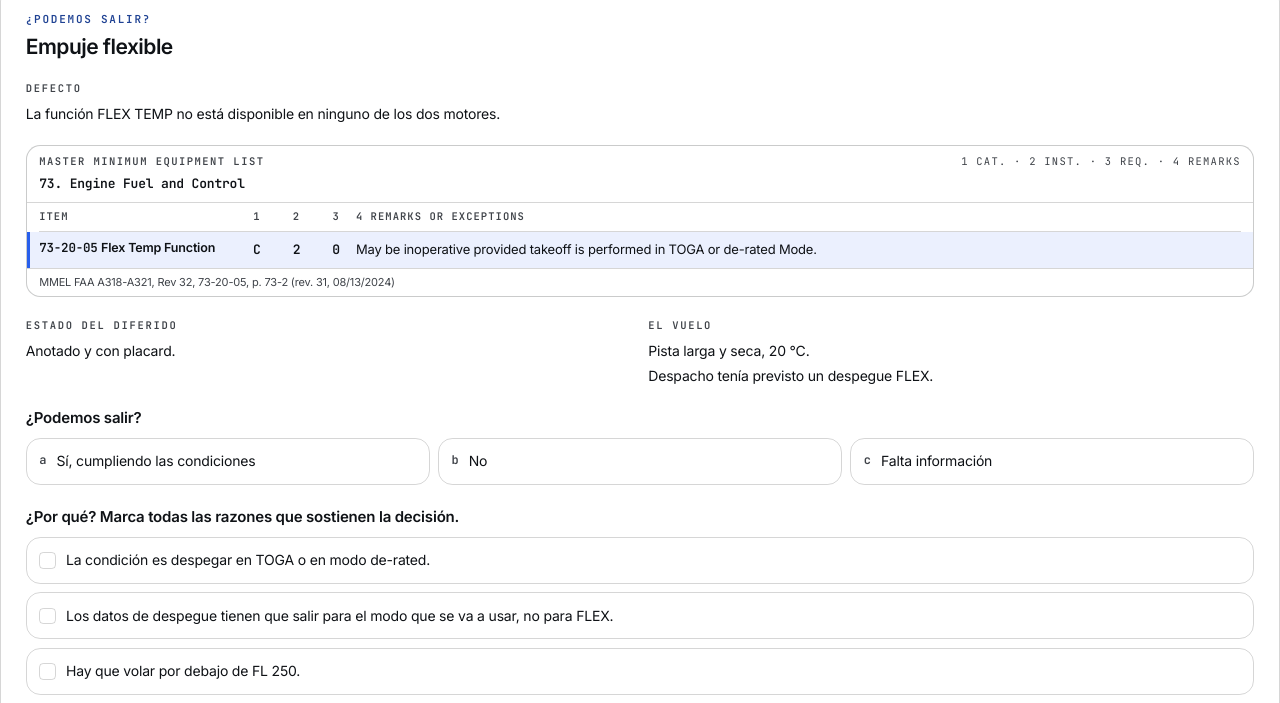
PodemosSalir › decisión y razones, luego la explicación
Click the button "a Sí, cumpliendo las condiciones": [228, 462] box x1=26 y1=438 x2=430 y2=485
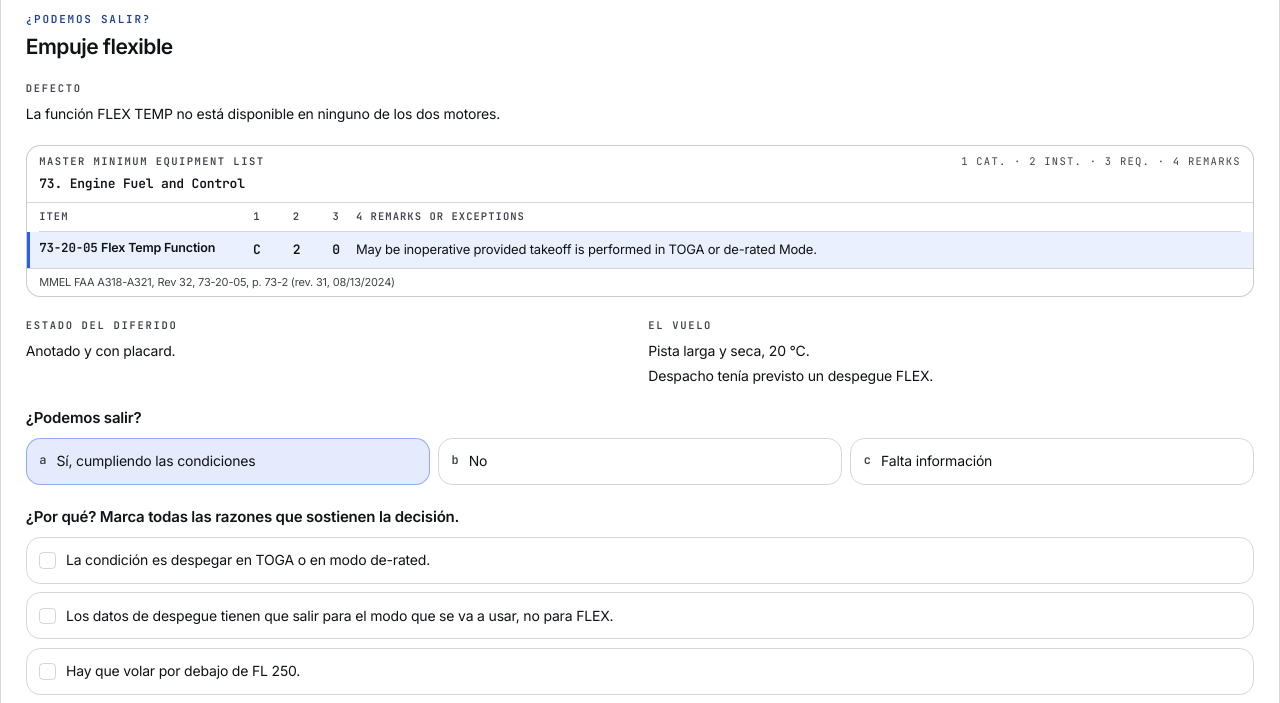
Click the button "La condición es despegar en TOGA o en modo de-rated.": [248, 560] box x1=26 y1=537 x2=1254 y2=584
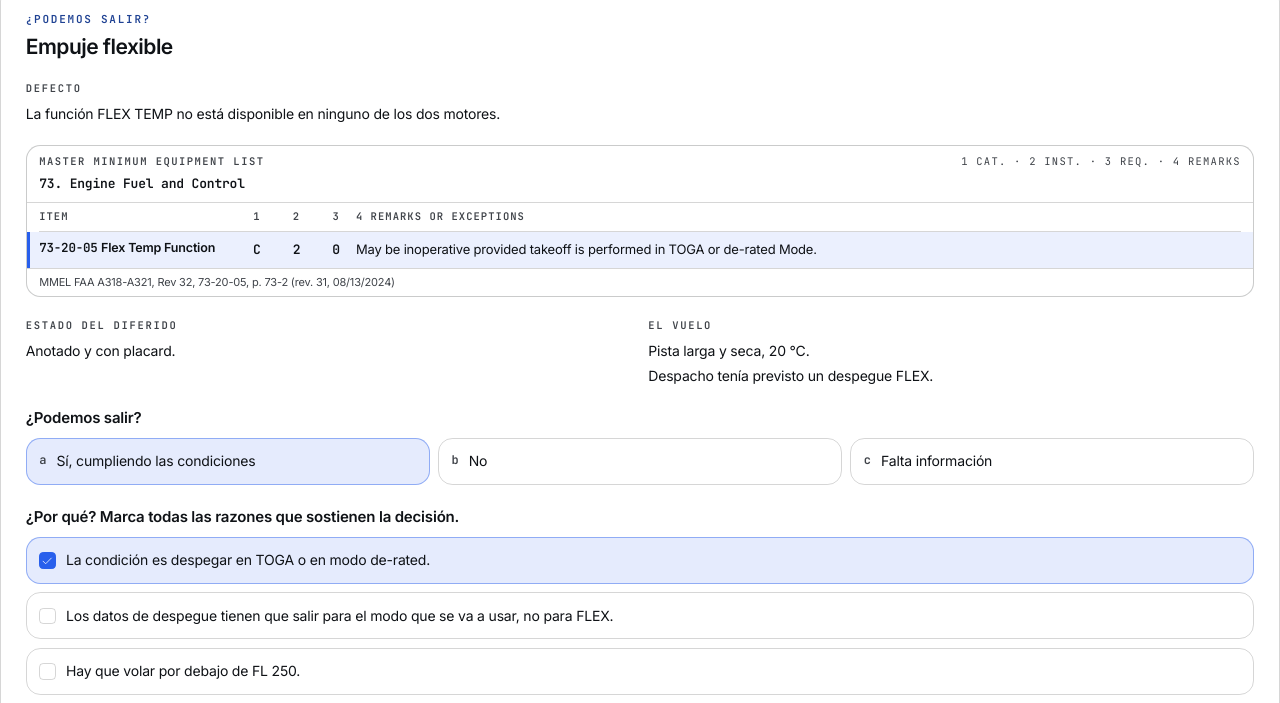
Click the 5th button: [340, 615] box x1=26 y1=592 x2=1254 y2=639
(page scrolled)
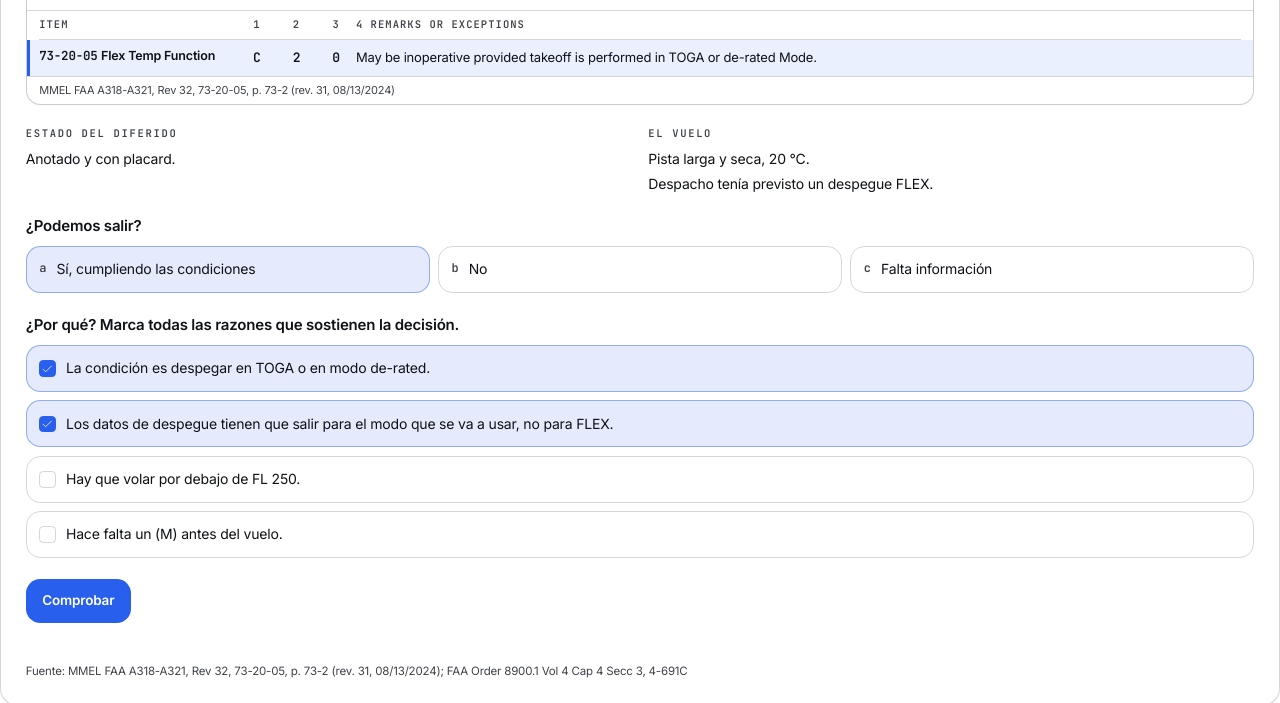
Click the button "Comprobar": [78, 601] box x1=26 y1=579 x2=131 y2=623
(page scrolled)
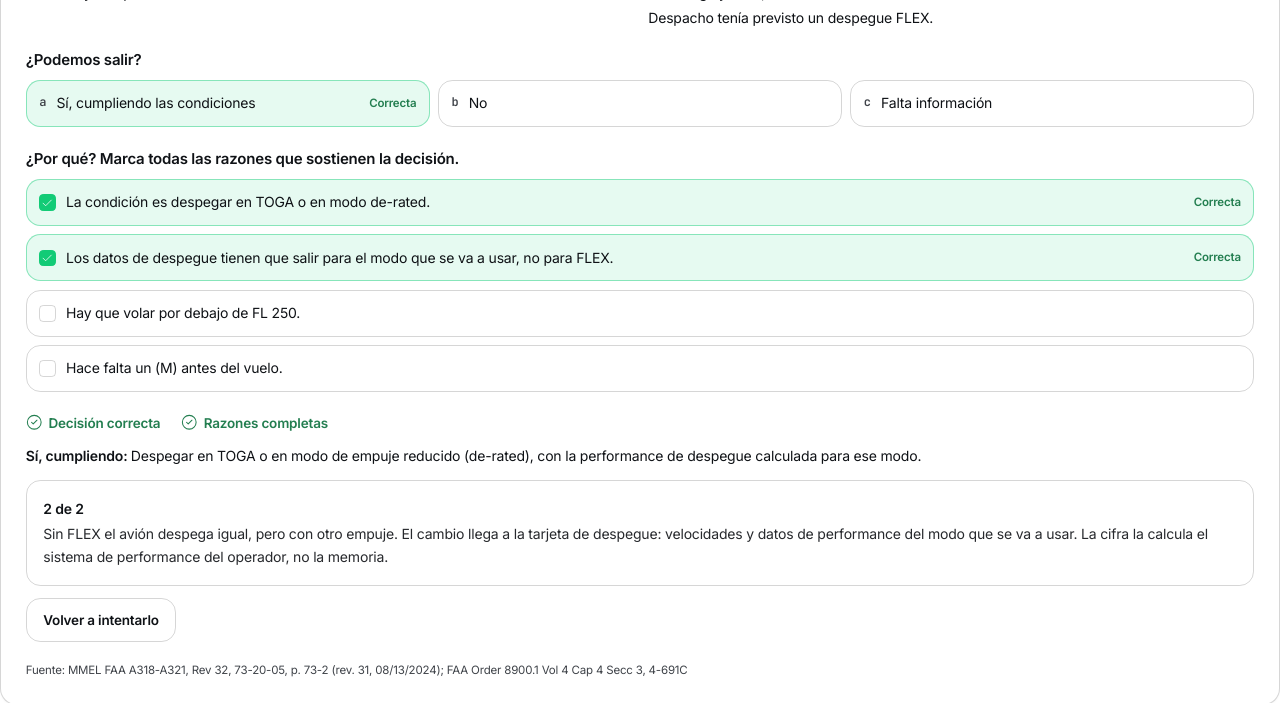
Expected: the text "Sí, cumpliendo:" is shown, x1=26 y1=447 x2=131 y2=464
Expected: the text "Sin FLEX el avión despega igual, pero con otro empuje. El cambio llega a la tarjeta de despegue: velocidades y datos de performance del modo que se va a usar. L" is shown, x1=43 y1=525 x2=1208 y2=565
Click the button "Volver a intentarlo": [101, 620] box x1=26 y1=598 x2=176 y2=642
(page scrolled)
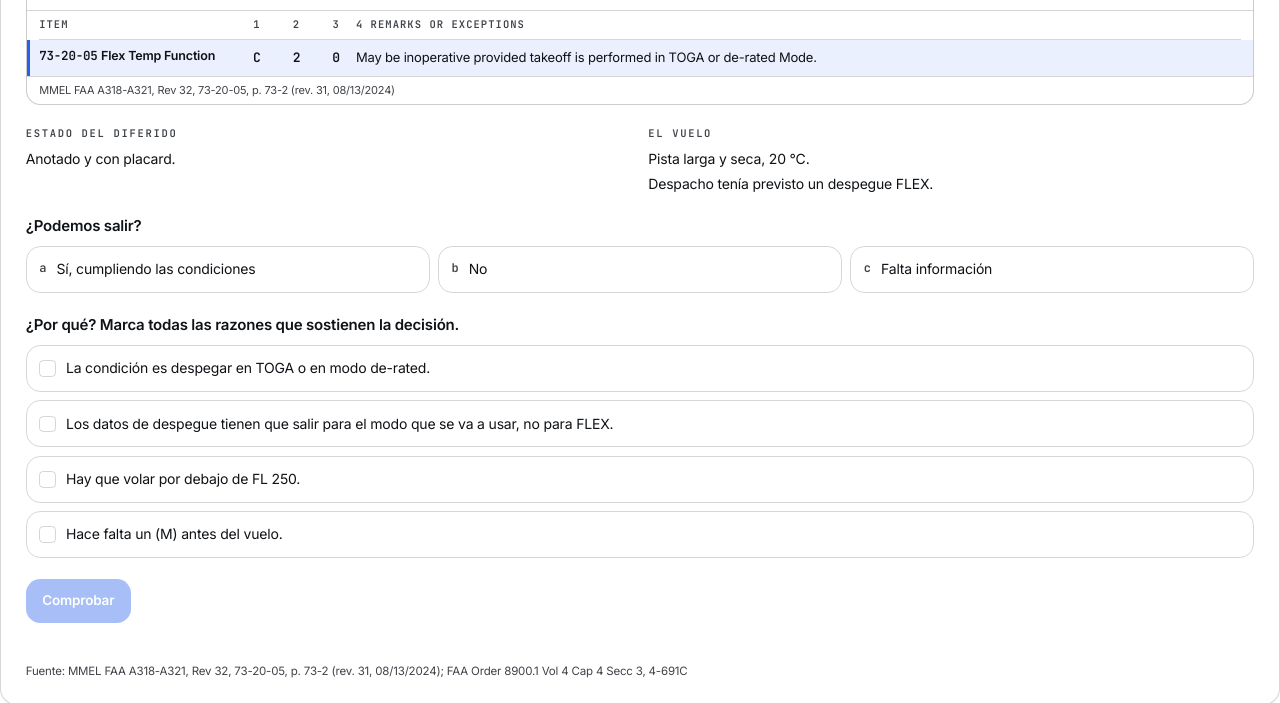
Expected: the button "Comprobar" is disabled, x1=26 y1=579 x2=131 y2=623
